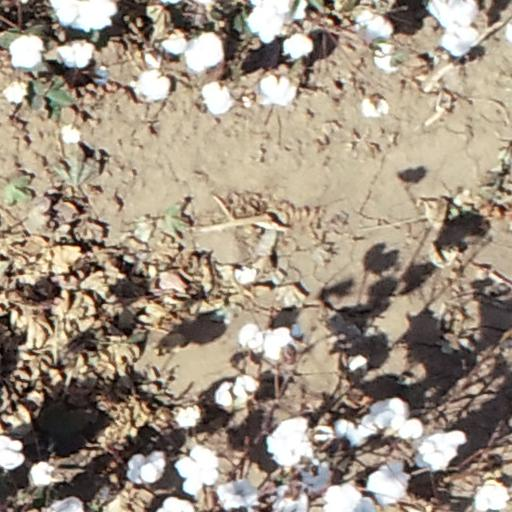Boll: (374, 397, 421, 437), (268, 419, 308, 461), (177, 448, 217, 489), (419, 434, 464, 470), (186, 33, 223, 70), (252, 3, 291, 38), (368, 464, 408, 498), (57, 3, 111, 28), (431, 3, 480, 29), (218, 481, 259, 510), (323, 485, 367, 512), (445, 21, 480, 54), (259, 73, 296, 104), (131, 69, 168, 98), (474, 479, 506, 512), (271, 485, 308, 511), (202, 82, 233, 112), (263, 328, 291, 361), (129, 453, 163, 480), (59, 38, 92, 65), (358, 13, 392, 39), (10, 37, 41, 65), (339, 419, 372, 443), (236, 321, 264, 348), (51, 491, 82, 512), (1, 440, 25, 467), (159, 494, 192, 512), (176, 405, 201, 428), (285, 36, 315, 55), (32, 462, 52, 486), (363, 96, 388, 115), (234, 375, 255, 397), (215, 383, 234, 406), (165, 32, 185, 53), (8, 83, 26, 101), (237, 267, 256, 284), (142, 51, 161, 65)
